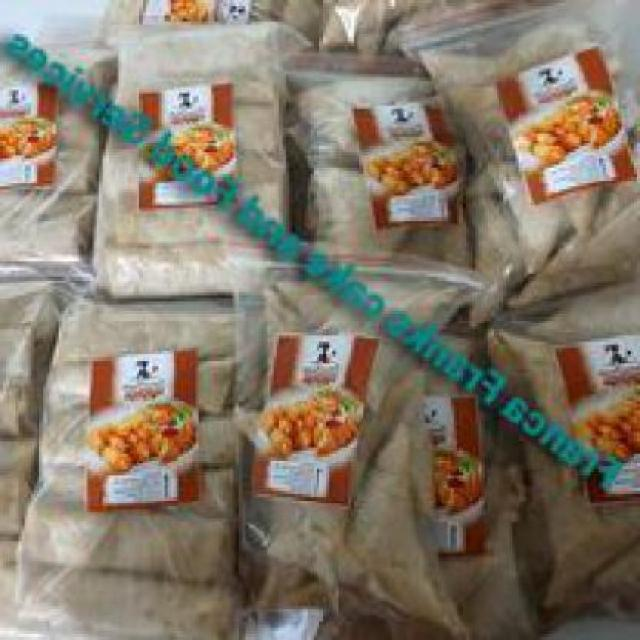spring rolls: (6, 24, 280, 616)
